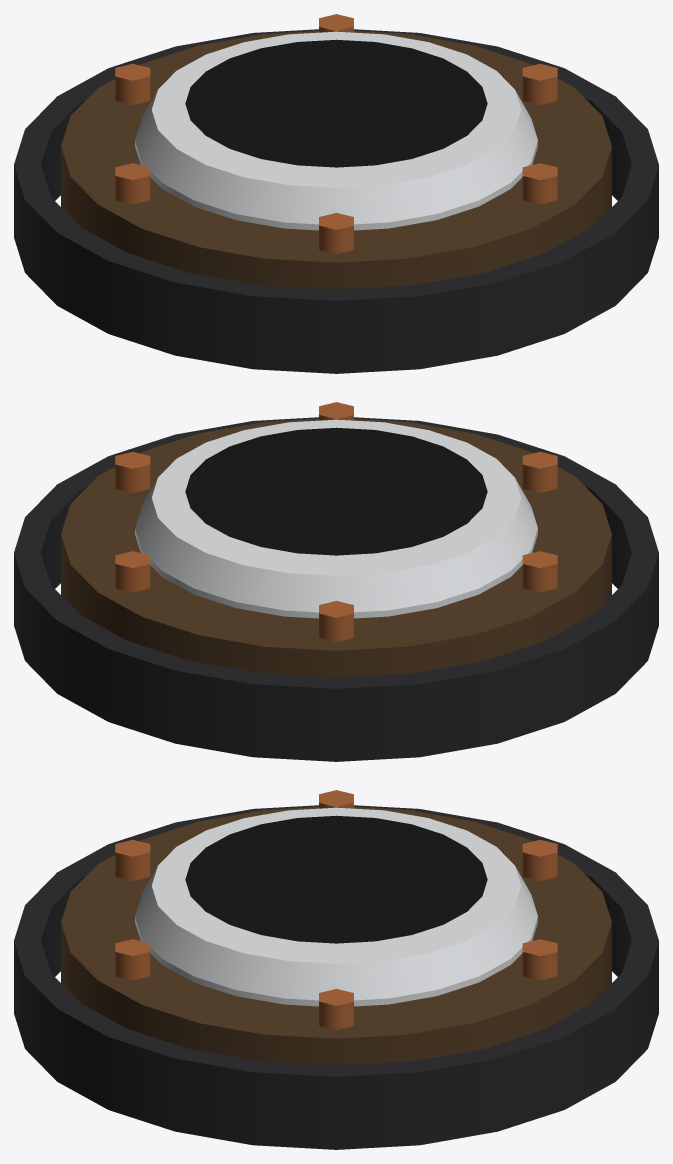
The model's file is rd1_thruster_fl.obj.
3 renders of one model, top to bottom at view 1: azimuth 30°, elevation 25°; view 2: azimuth 150°, elevation 25°; view 3: azimuth 270°, elevation 25°, orthographic.
Parts seen in each view (by area): view 1: rd1_thruster_fl; view 2: rd1_thruster_fl; view 3: rd1_thruster_fl.
Boxes of the visible parts, bbox=[...] form: rd1_thruster_fl: bbox=[14, 14, 658, 373]; rd1_thruster_fl: bbox=[14, 402, 658, 761]; rd1_thruster_fl: bbox=[14, 790, 658, 1149].
Bounding box in the file's own units: 0.192 × 0.064 × 0.192.
